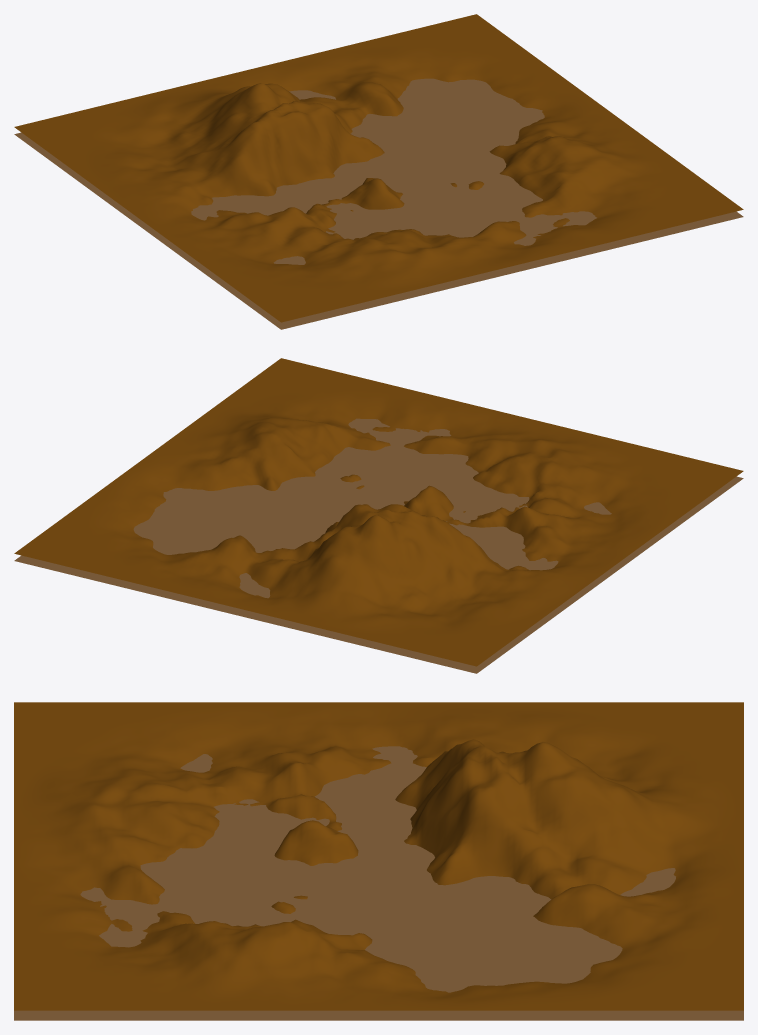
Rendered from terrain.gltf.
3 renders of one model, top to bottom at view 1: azimuth 30°, elevation 25°; view 2: azimuth 150°, elevation 25°; view 3: azimuth 270°, elevation 25°, orthographic. The views are drawn at different scales.
Parts seen in each view (by area): view 1: Landscape, Landscape_plane; view 2: Landscape, Landscape_plane; view 3: Landscape, Landscape_plane.
Boxes of the visible parts, x1,y1,x2,y2 form: Landscape: [14, 14, 743, 322]; Landscape_plane: [14, 78, 743, 329]; Landscape: [14, 358, 743, 666]; Landscape_plane: [14, 418, 743, 673]; Landscape: [14, 702, 743, 1010]; Landscape_plane: [14, 746, 743, 1020].
Bounding box in the file's own units: 2 × 0.3276 × 2.
